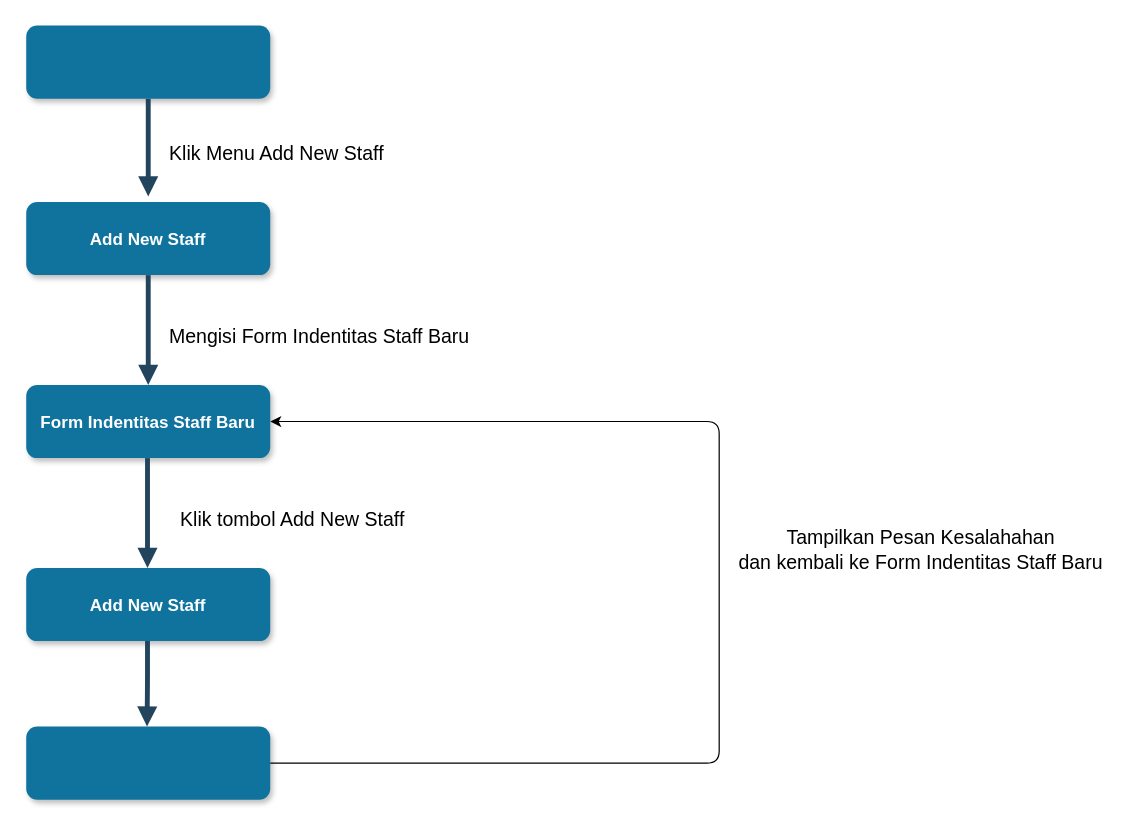
This 1130x830 diagram has some shape labels left out. Each missing label, with the centre of its shape:
Cek: (x=149, y=764)
Home: (x=149, y=63)
